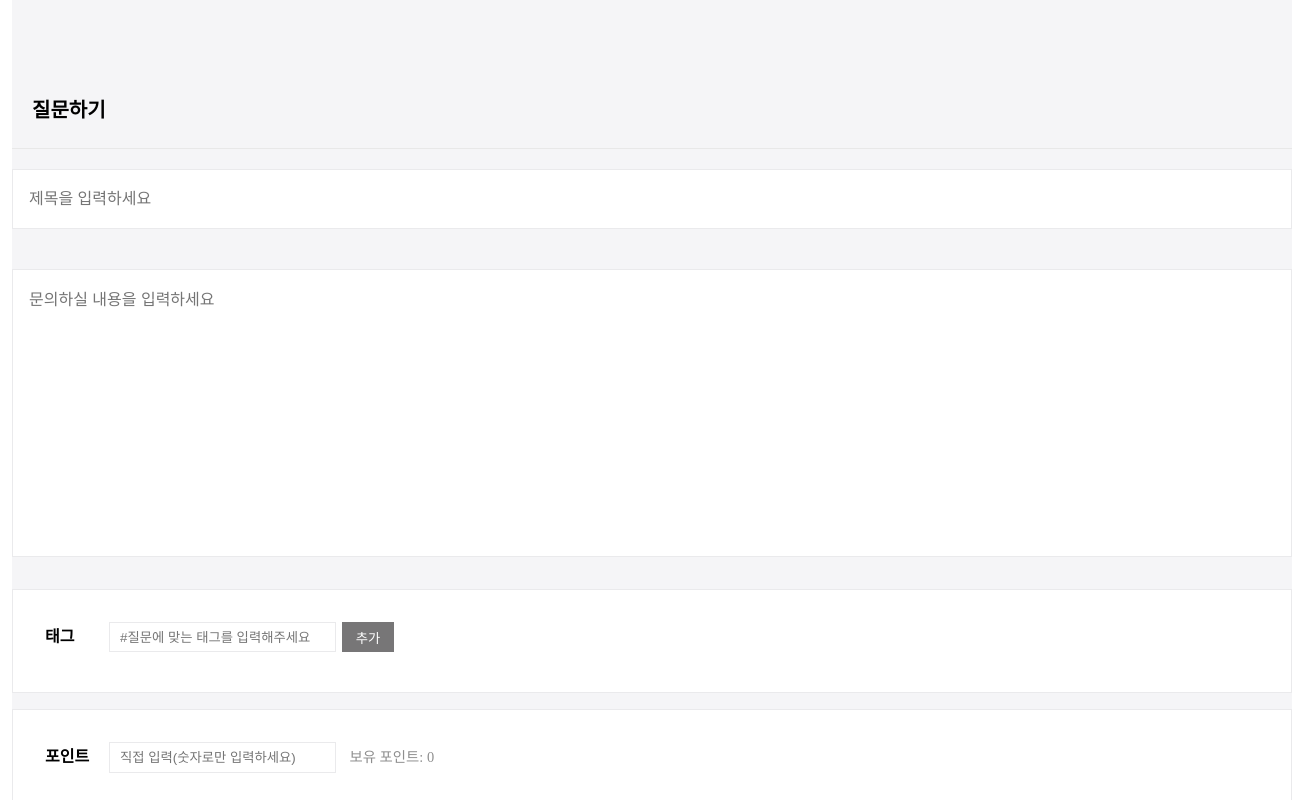
Test: QuestionForm › with empty body › renders error message
This screenshot has width=1304, height=800.
Type "No 'Access-Control-Allow-Origin' header" into the field with placeholder "제목을 입력하세요".
click(652, 199); type("No 'Access-Control-Allow-Origin' header")  # box [12,169,1292,229]
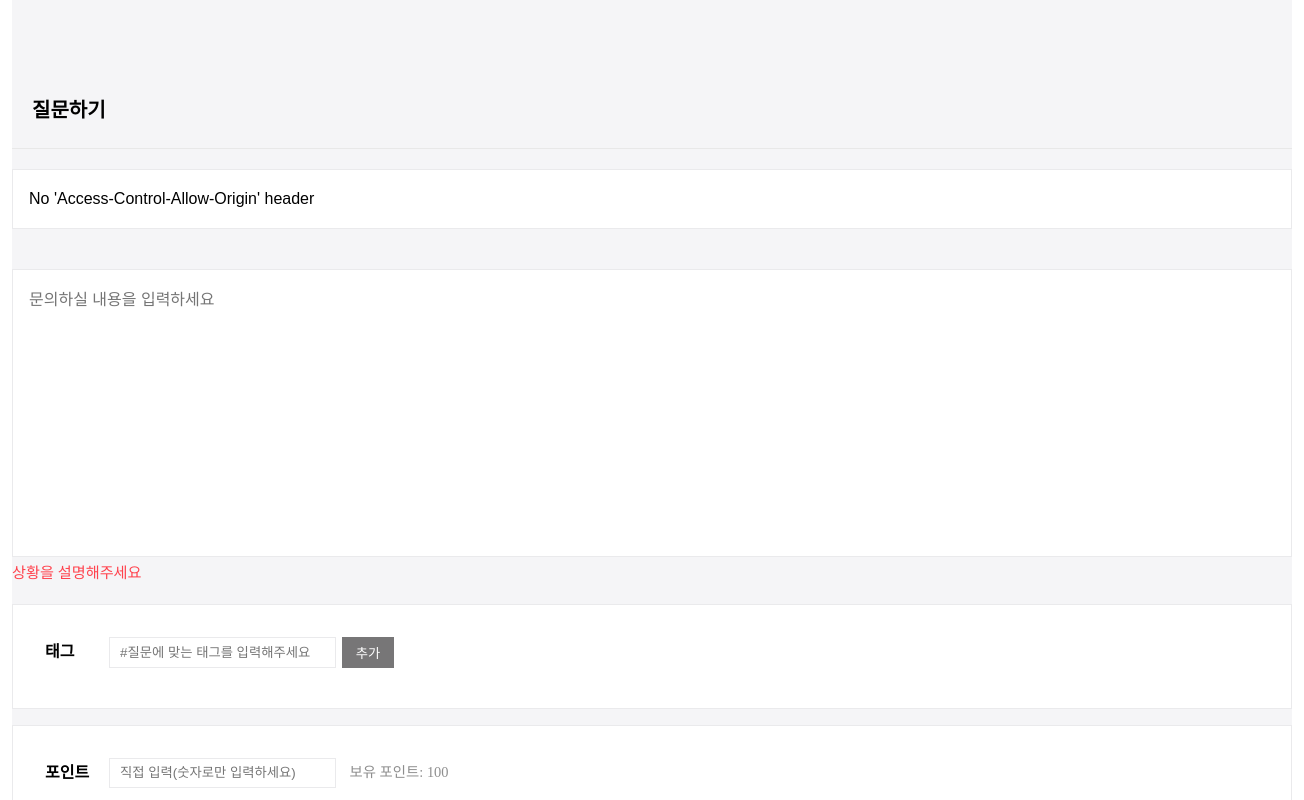
Now the text "상황을 설명해주세요" is shown, box [12,564,142,581]
